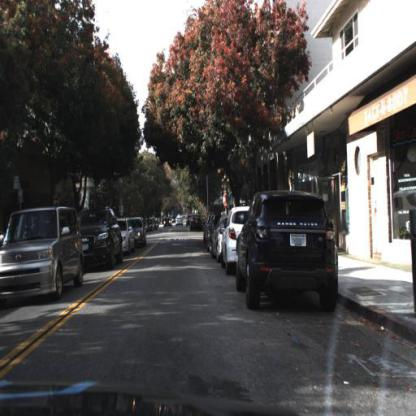car: (231, 189, 345, 316), (1, 202, 88, 315), (82, 203, 129, 278), (78, 207, 125, 271), (221, 205, 252, 276), (220, 204, 243, 278), (116, 217, 134, 253)
